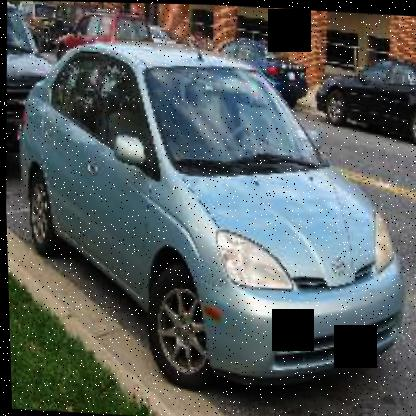not_emergency: (2, 37, 415, 381)
